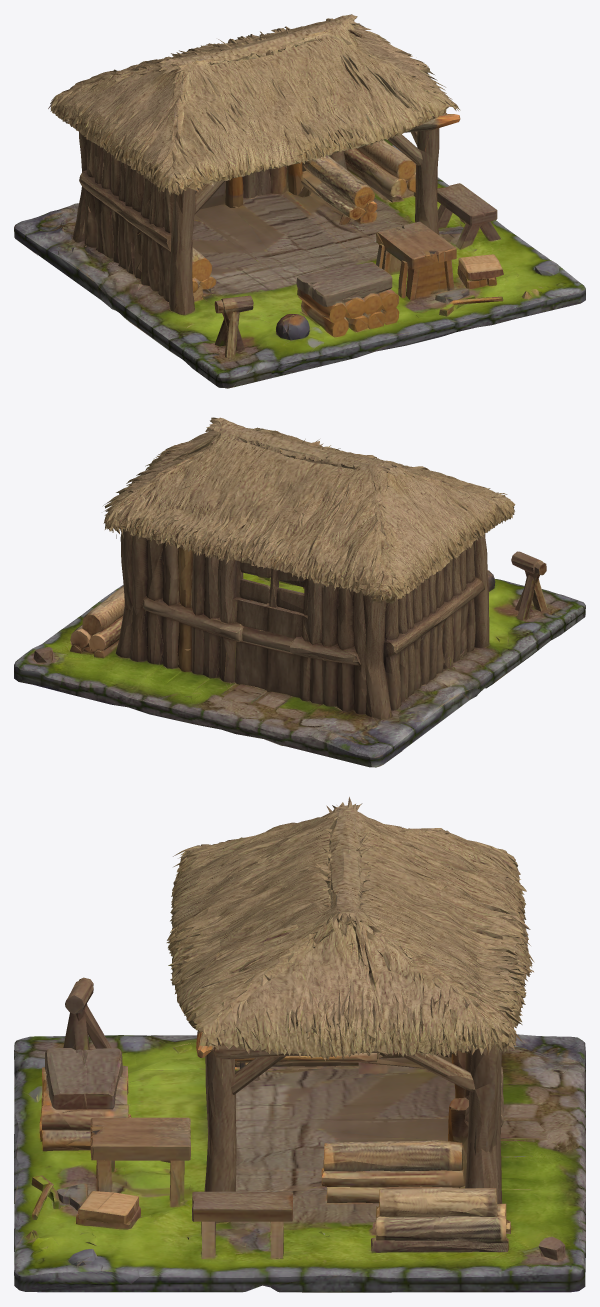
File: lumber_camp.glb
3 views of the same model, one above another, from view 1: azimuth 30°, elevation 25°; view 2: azimuth 150°, elevation 25°; view 3: azimuth 270°, elevation 25° (orthographic). The views are drawn at different scales.
Bounding box in the file's own units: 1.9 × 1.11 × 1.9.
Materials: 1 (1 with a texture image).
